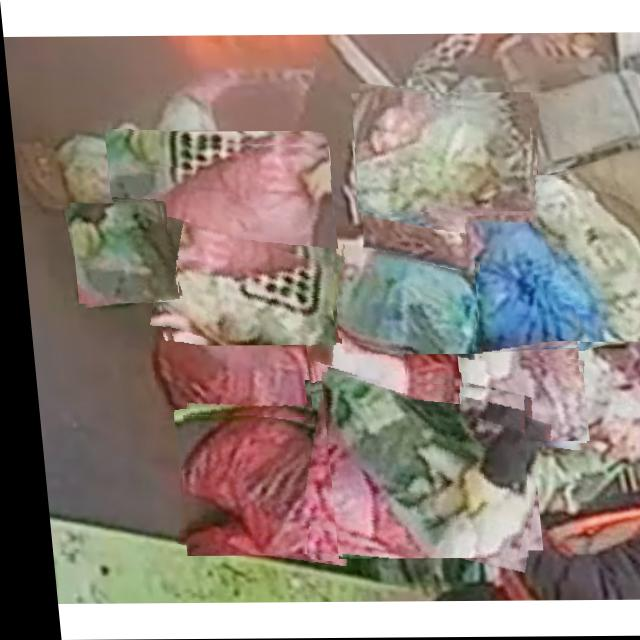general_trashbag: (314, 375, 520, 559), (522, 177, 640, 342), (351, 106, 531, 213), (152, 260, 328, 346), (67, 201, 173, 302)
other_trashbag: (111, 146, 326, 282), (172, 417, 338, 555), (150, 327, 303, 439), (331, 253, 472, 355), (467, 217, 569, 355), (457, 360, 578, 442), (361, 187, 482, 262), (304, 327, 399, 398), (320, 401, 383, 469)
